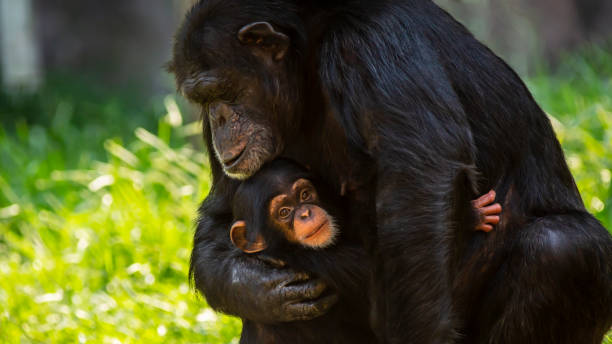chimpanzee: (168, 1, 318, 177), (223, 156, 354, 272)
